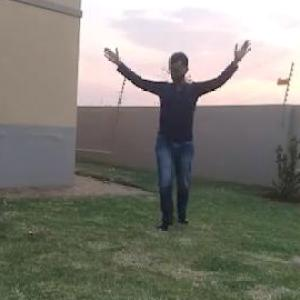takeoff: (100, 39, 256, 221)
